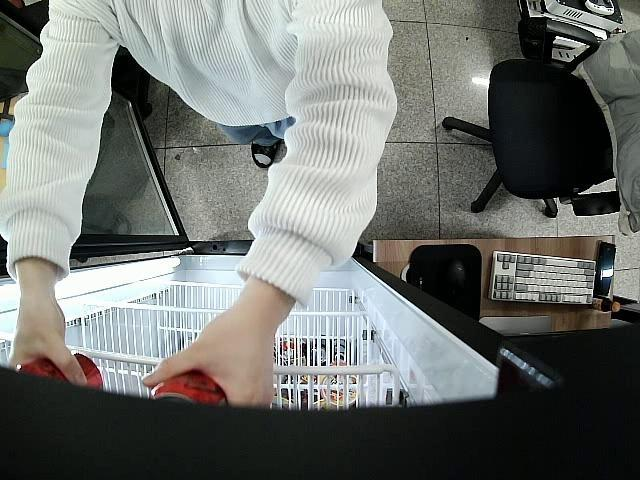11_cocaColaZero: (15, 354, 104, 392), (148, 370, 228, 407)
